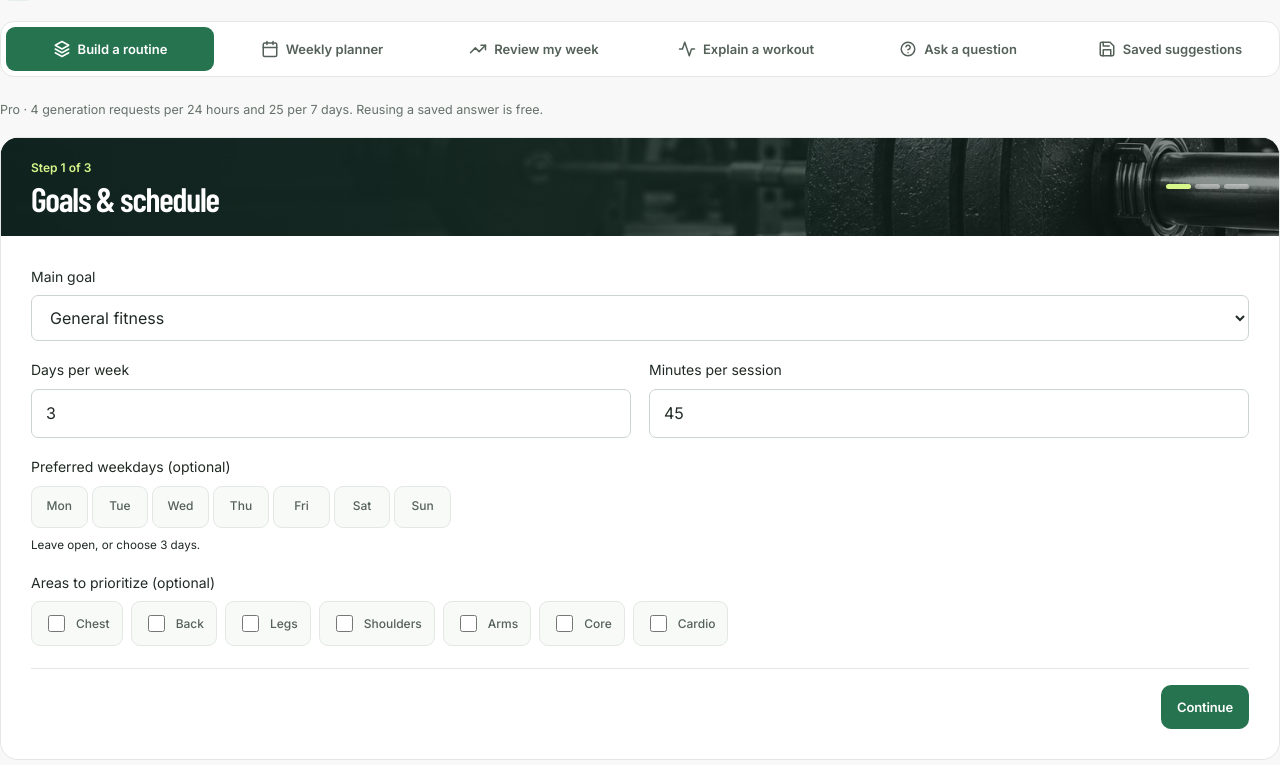
Test case: uses a three-step form and requires explicit consent before a paid routine request
Expected: the heading "Goals & schedule" is shown, [31,180,219,218]
Click the button "Continue".
click(1205, 707)  # box [1161,685,1249,729]
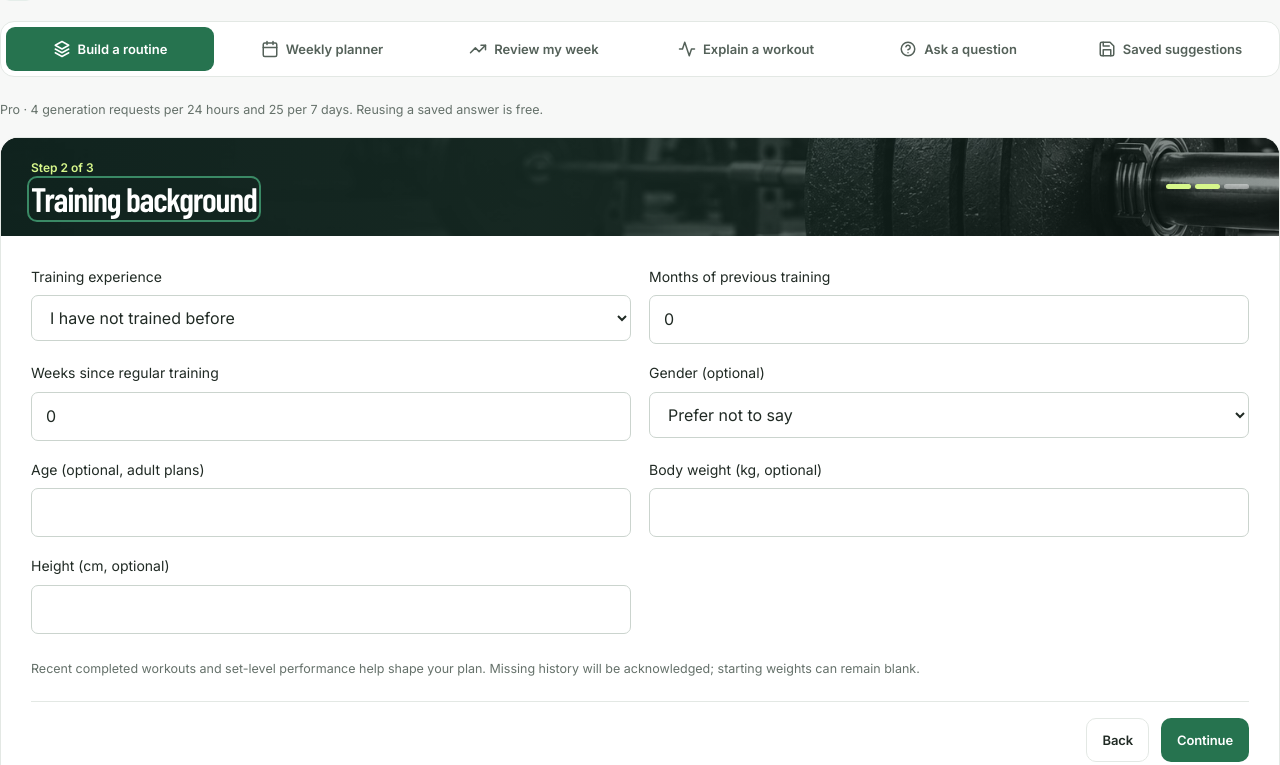
Expected: the heading "Training background" is shown, [31,180,257,218]
Replace the text in the number field labelled "Months of previous training" with "24" at {"x": 949, "y": 320}, box [649,295,1249,344]
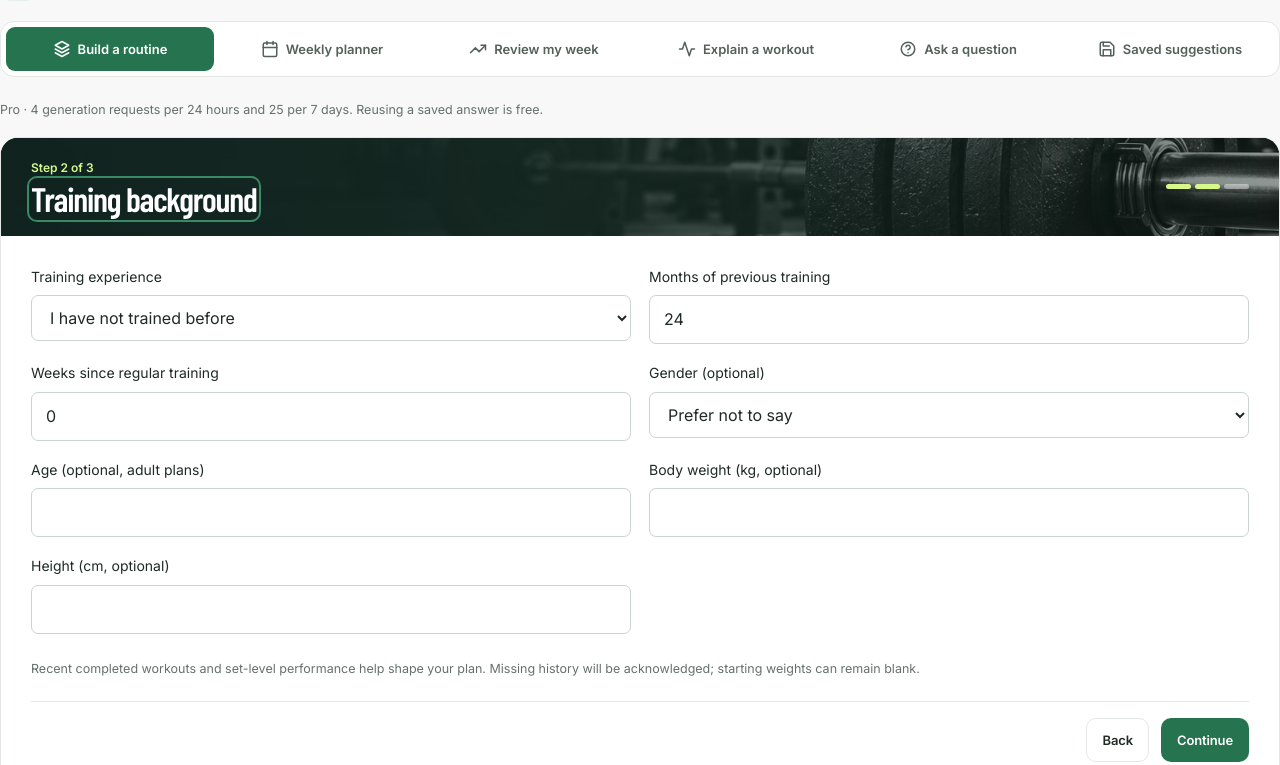
Click the button "Continue".
click(1205, 740)  # box [1161,718,1249,762]
(page scrolled)
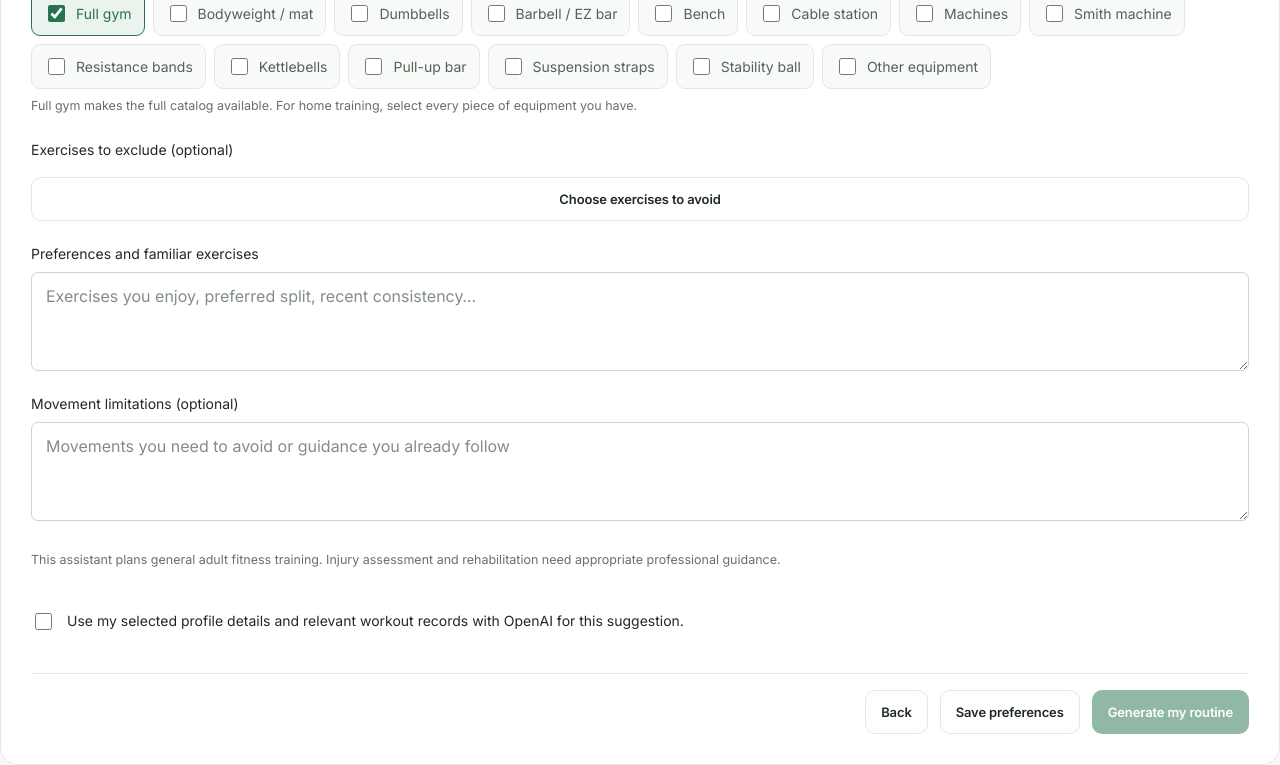
Expected: the button "Generate my routine" is disabled, [1092,690,1249,734]
Click the checkbox labelled "Use my selected profile".
click(44, 622)  # box [35,614,52,630]
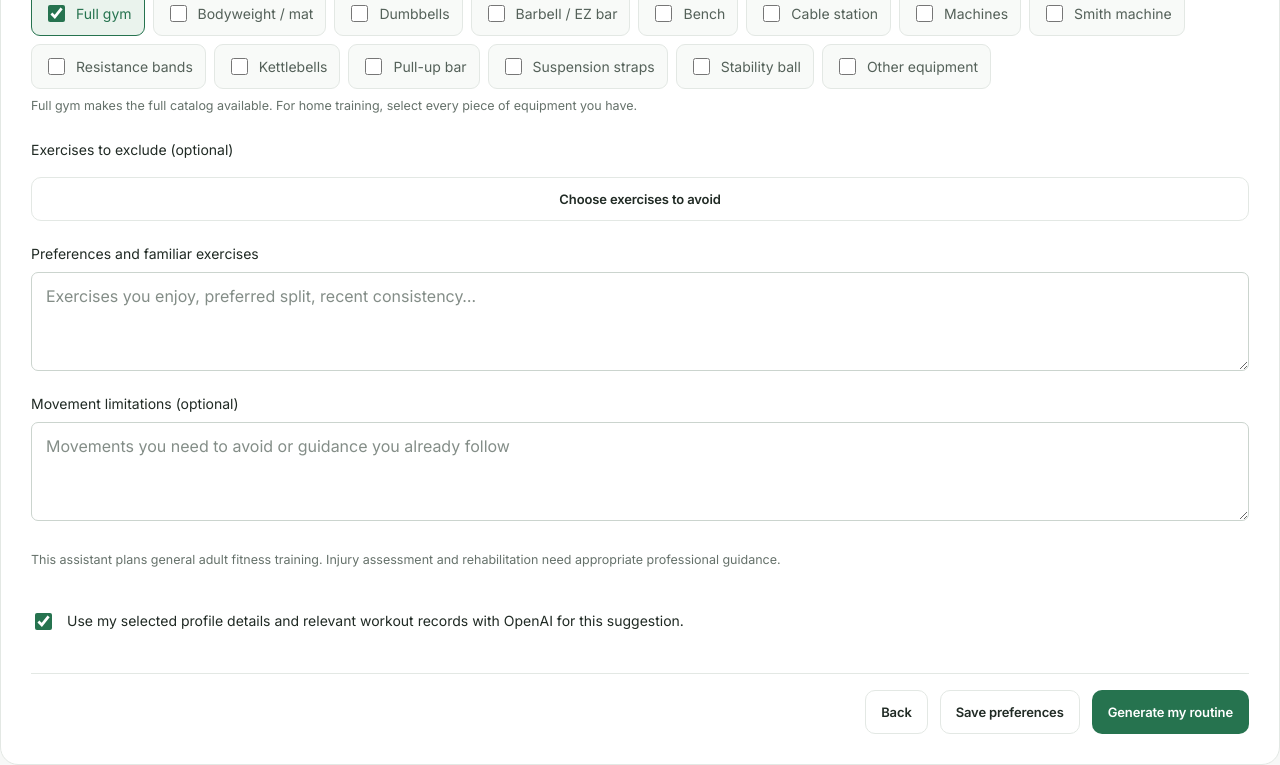
Click the button "Generate my routine".
click(1170, 712)  # box [1092,690,1249,734]
(page scrolled)
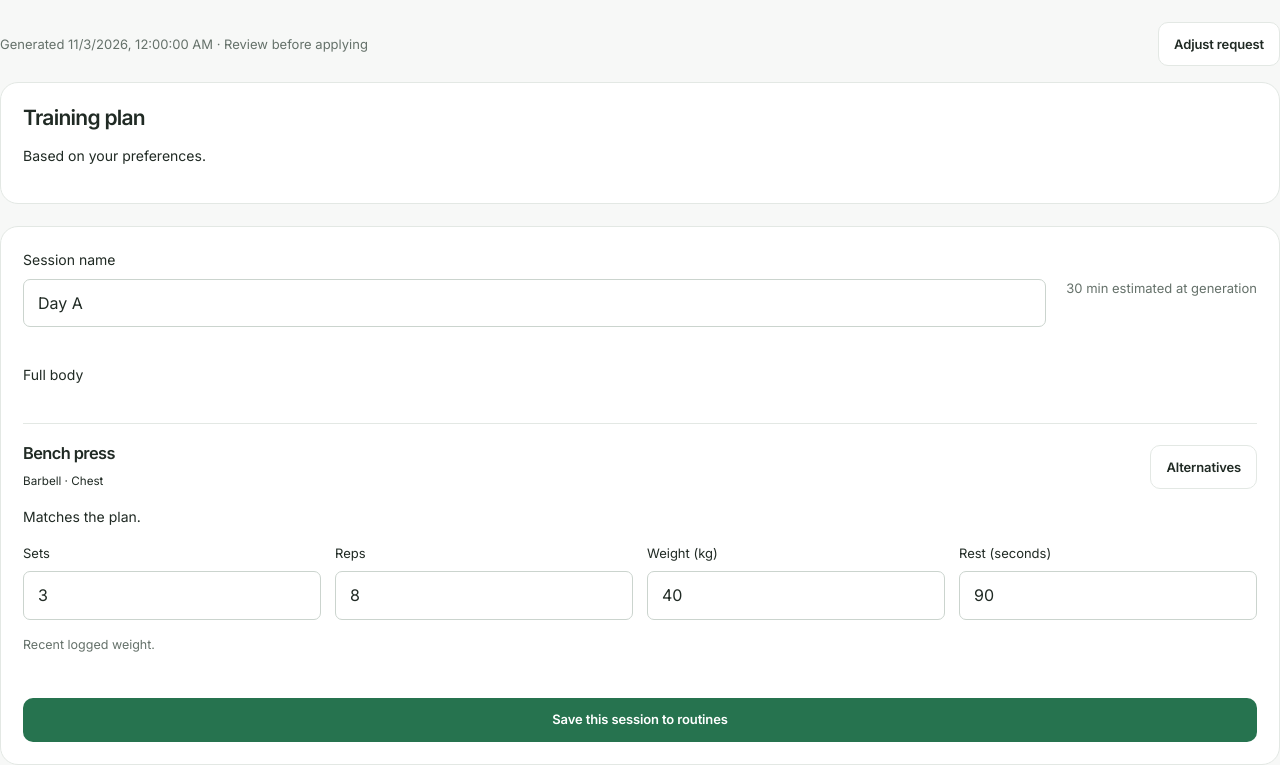
Expected: the heading "Training plan" is shown, [23,105,145,130]
